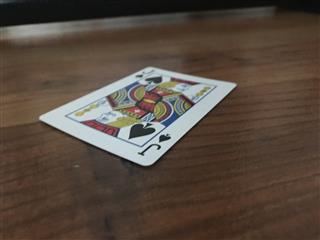JackOfSpades: (38, 65, 236, 167)
